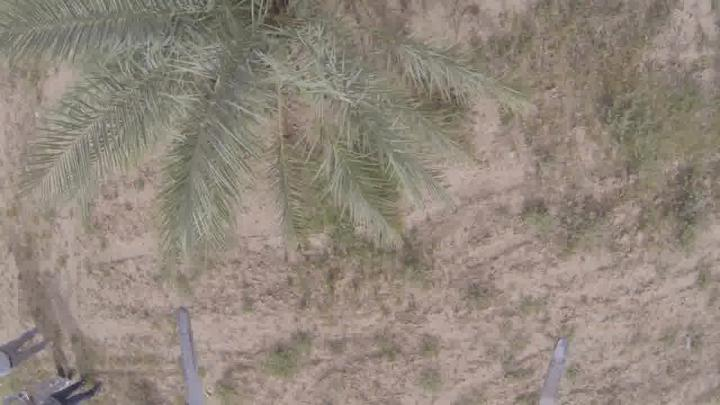Date-Palm-Crown: (89, 0, 395, 198)
